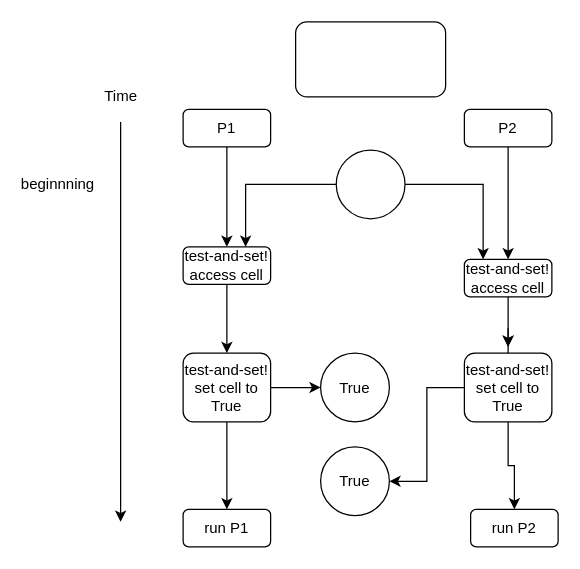
Some shapes in this 580 by 569 pixel diagram are drawn without their labels. Each missing label, with the box of its shape:
Cell status: (294, 21, 446, 97)
false: (335, 149, 405, 219)
